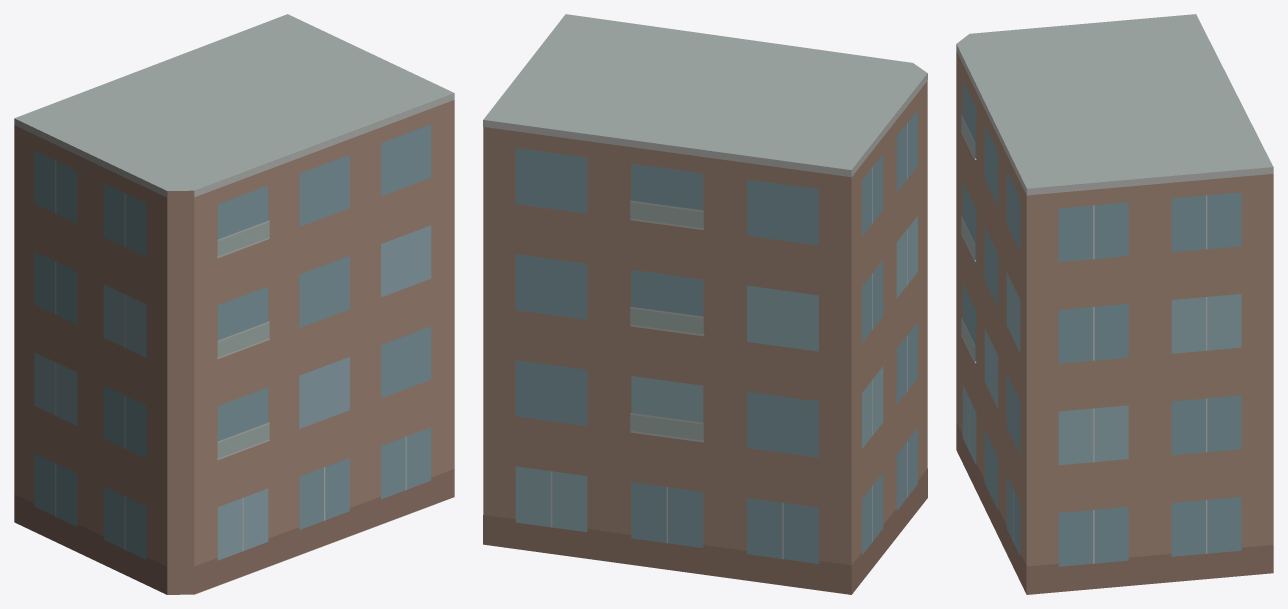
Rendered from survey-upis-33036141.glb.
3 views of the same model, side by side, from view 1: azimuth 30°, elevation 25°; view 2: azimuth 150°, elevation 25°; view 3: azimuth 270°, elevation 25° (orthographic). The views are drawn at different scales.
Parts seen in each view (by area): view 1: survey-upis-33036141.tmp; view 2: survey-upis-33036141.tmp; view 3: survey-upis-33036141.tmp.
Part boxes in pixels (x1,y1,x2,y2): survey-upis-33036141.tmp: [14, 14, 454, 594]; survey-upis-33036141.tmp: [483, 14, 927, 594]; survey-upis-33036141.tmp: [956, 14, 1273, 594].
Bounding box in the file's own units: 13.58 × 14.7 × 10.42.
